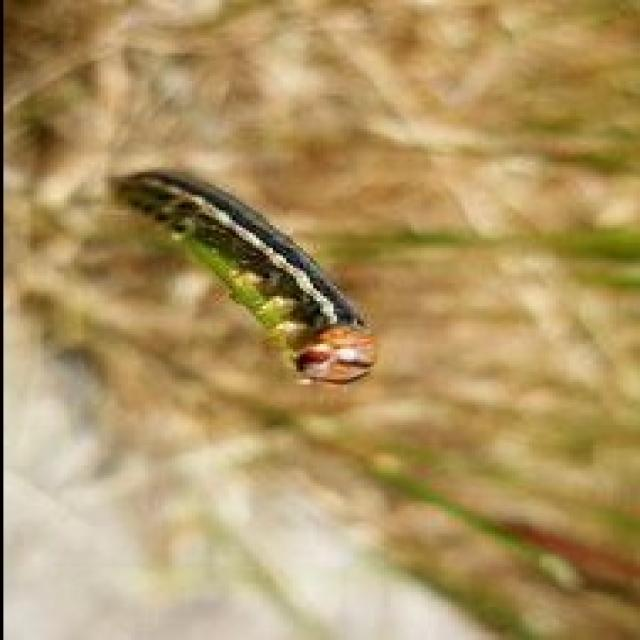army worm: (105, 165, 402, 388)
